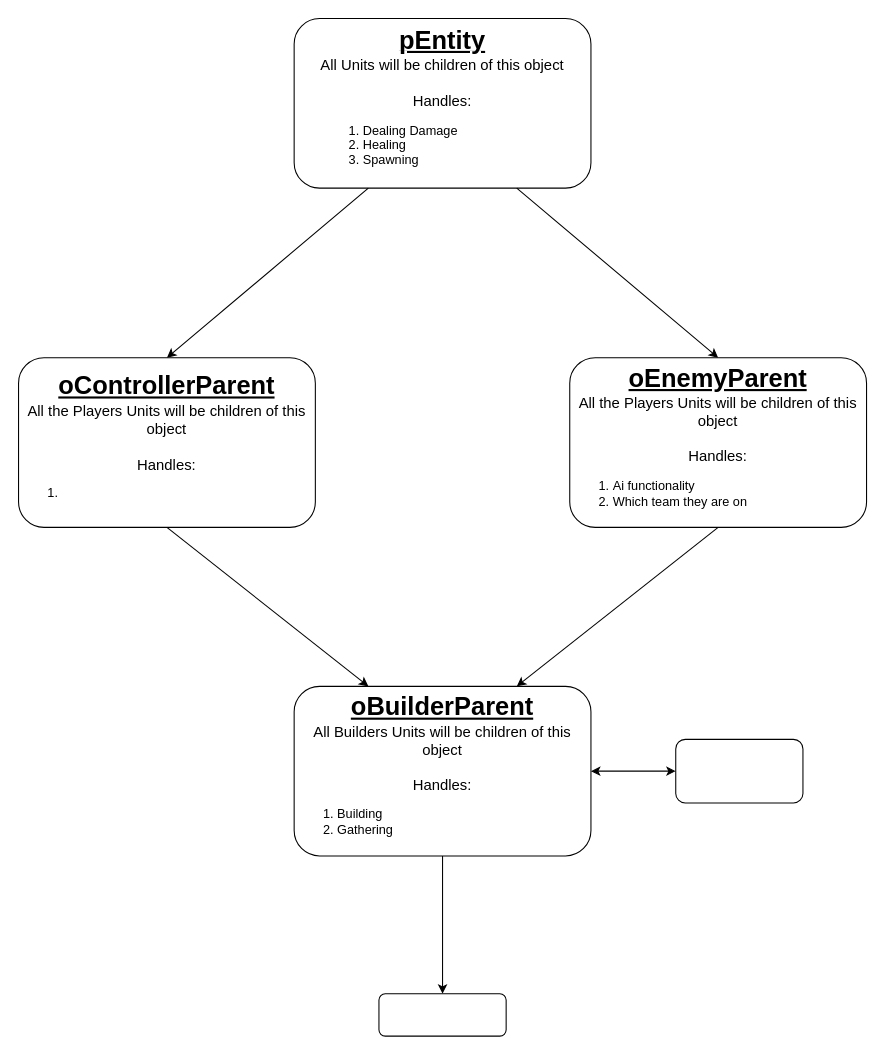
Image size: 885x1055. Some labels were removed from this diagram. The shapes that lost their labels are listed below. From the top down, each one's box as (x1, y1, x2, y2) in pixels, then its label:
(675, 738, 803, 803): Will have 1 for each type of unit
(378, 993, 506, 1036): oBuilder
